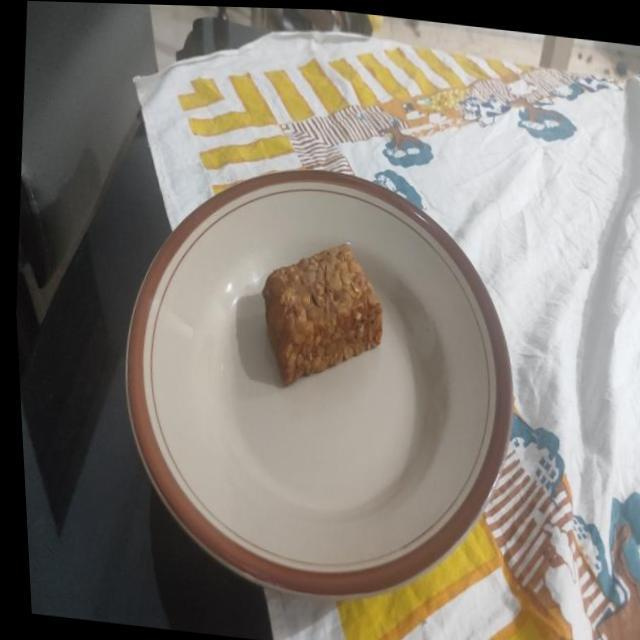tempe_goreng: (262, 243, 382, 384)
